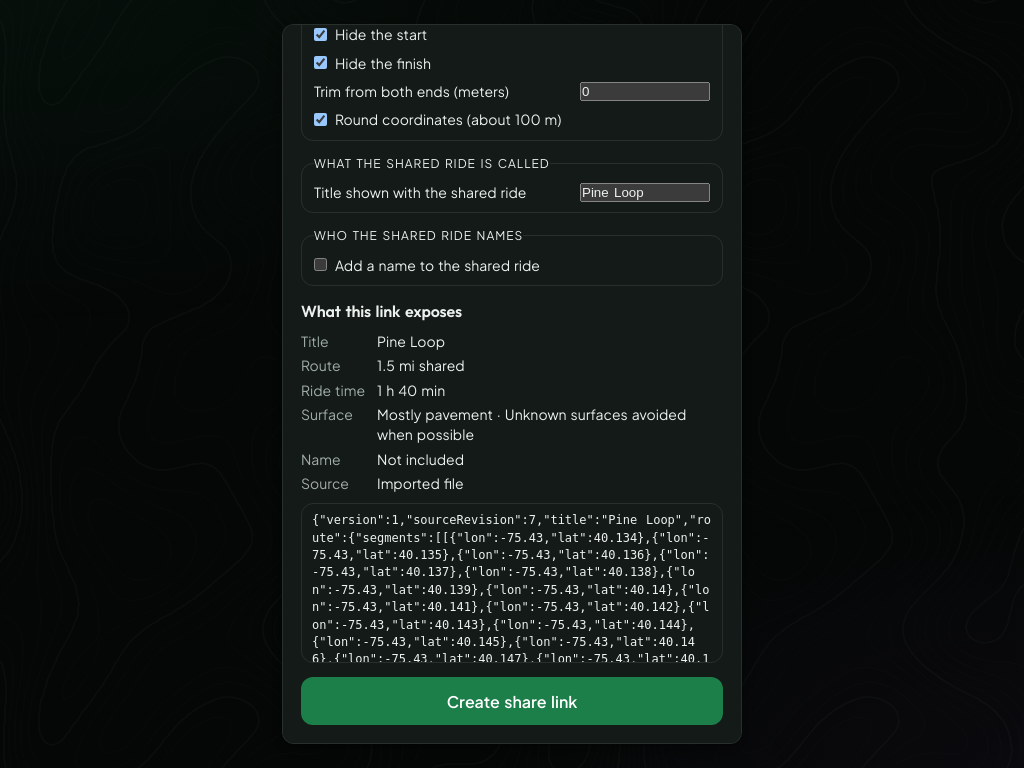
Test: ShareSheet — link lifecycle › revokes the link honestly and re-issues only as a new link
The image size is (1024, 768).
(page scrolled)
Click the button with test id "share-publish" at (512, 701), box 301,677 -> 723,725
(page scrolled)
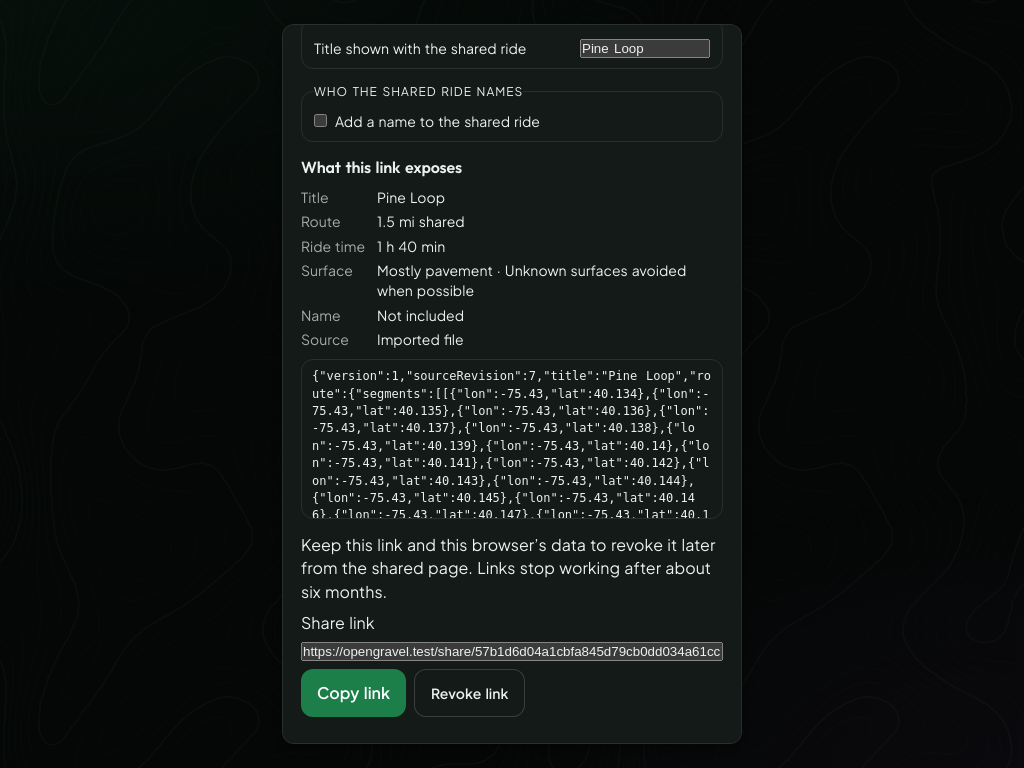
expect the field with test id "share-link" is shown: met, box 301,642 -> 723,661
Click the button with test id "share-revoke" at (470, 693), box 414,669 -> 525,717
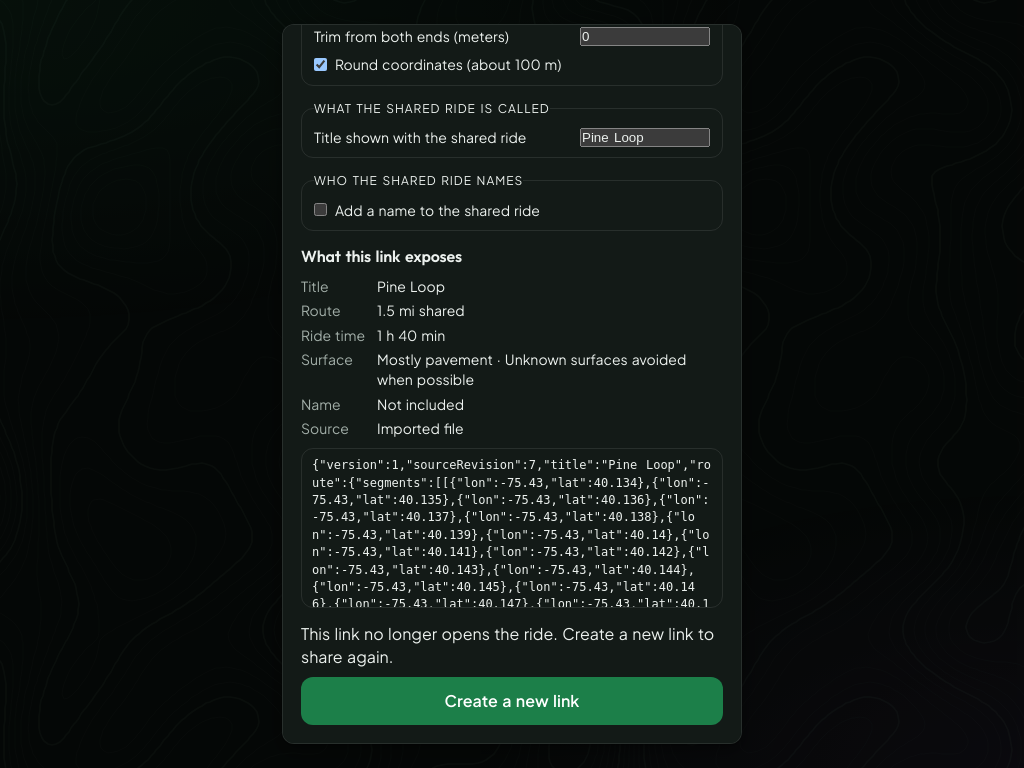
expect the message "This link no longer opens the ride. Create a new link to share again." is shown: met, box 301,622 -> 723,669
expect the label with test id "share-link" is gone: met
Click the button with test id "share-reissue" at (512, 701), box 301,677 -> 723,725
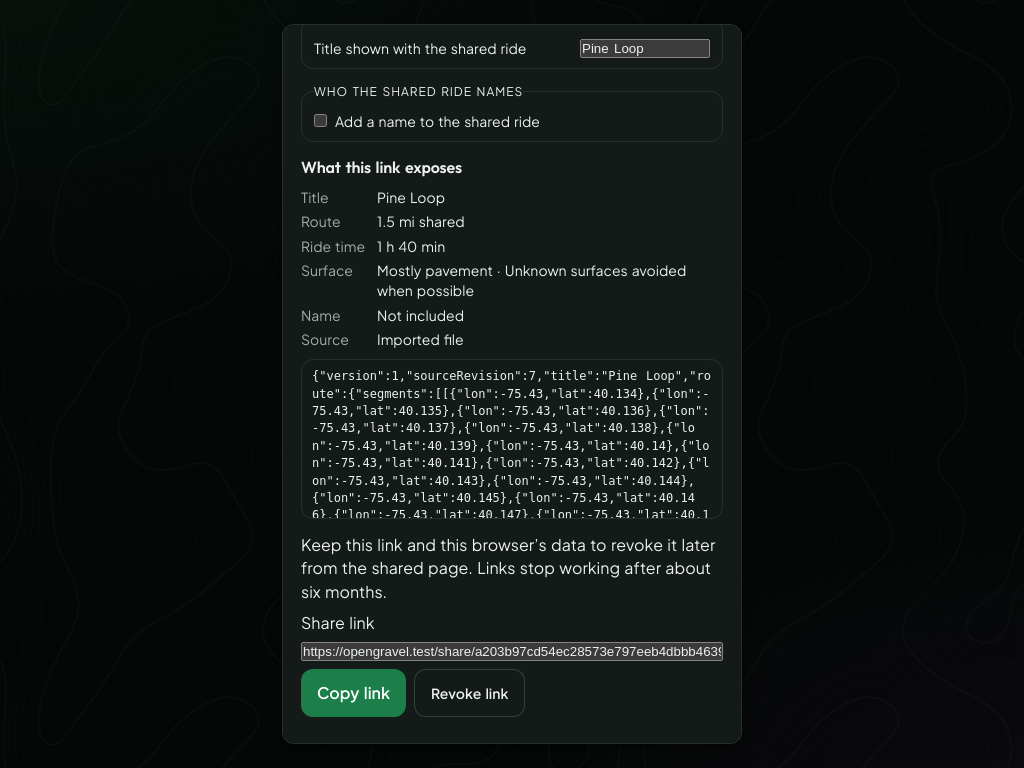
expect the field with test id "share-link" is shown: met, box 301,642 -> 723,661
